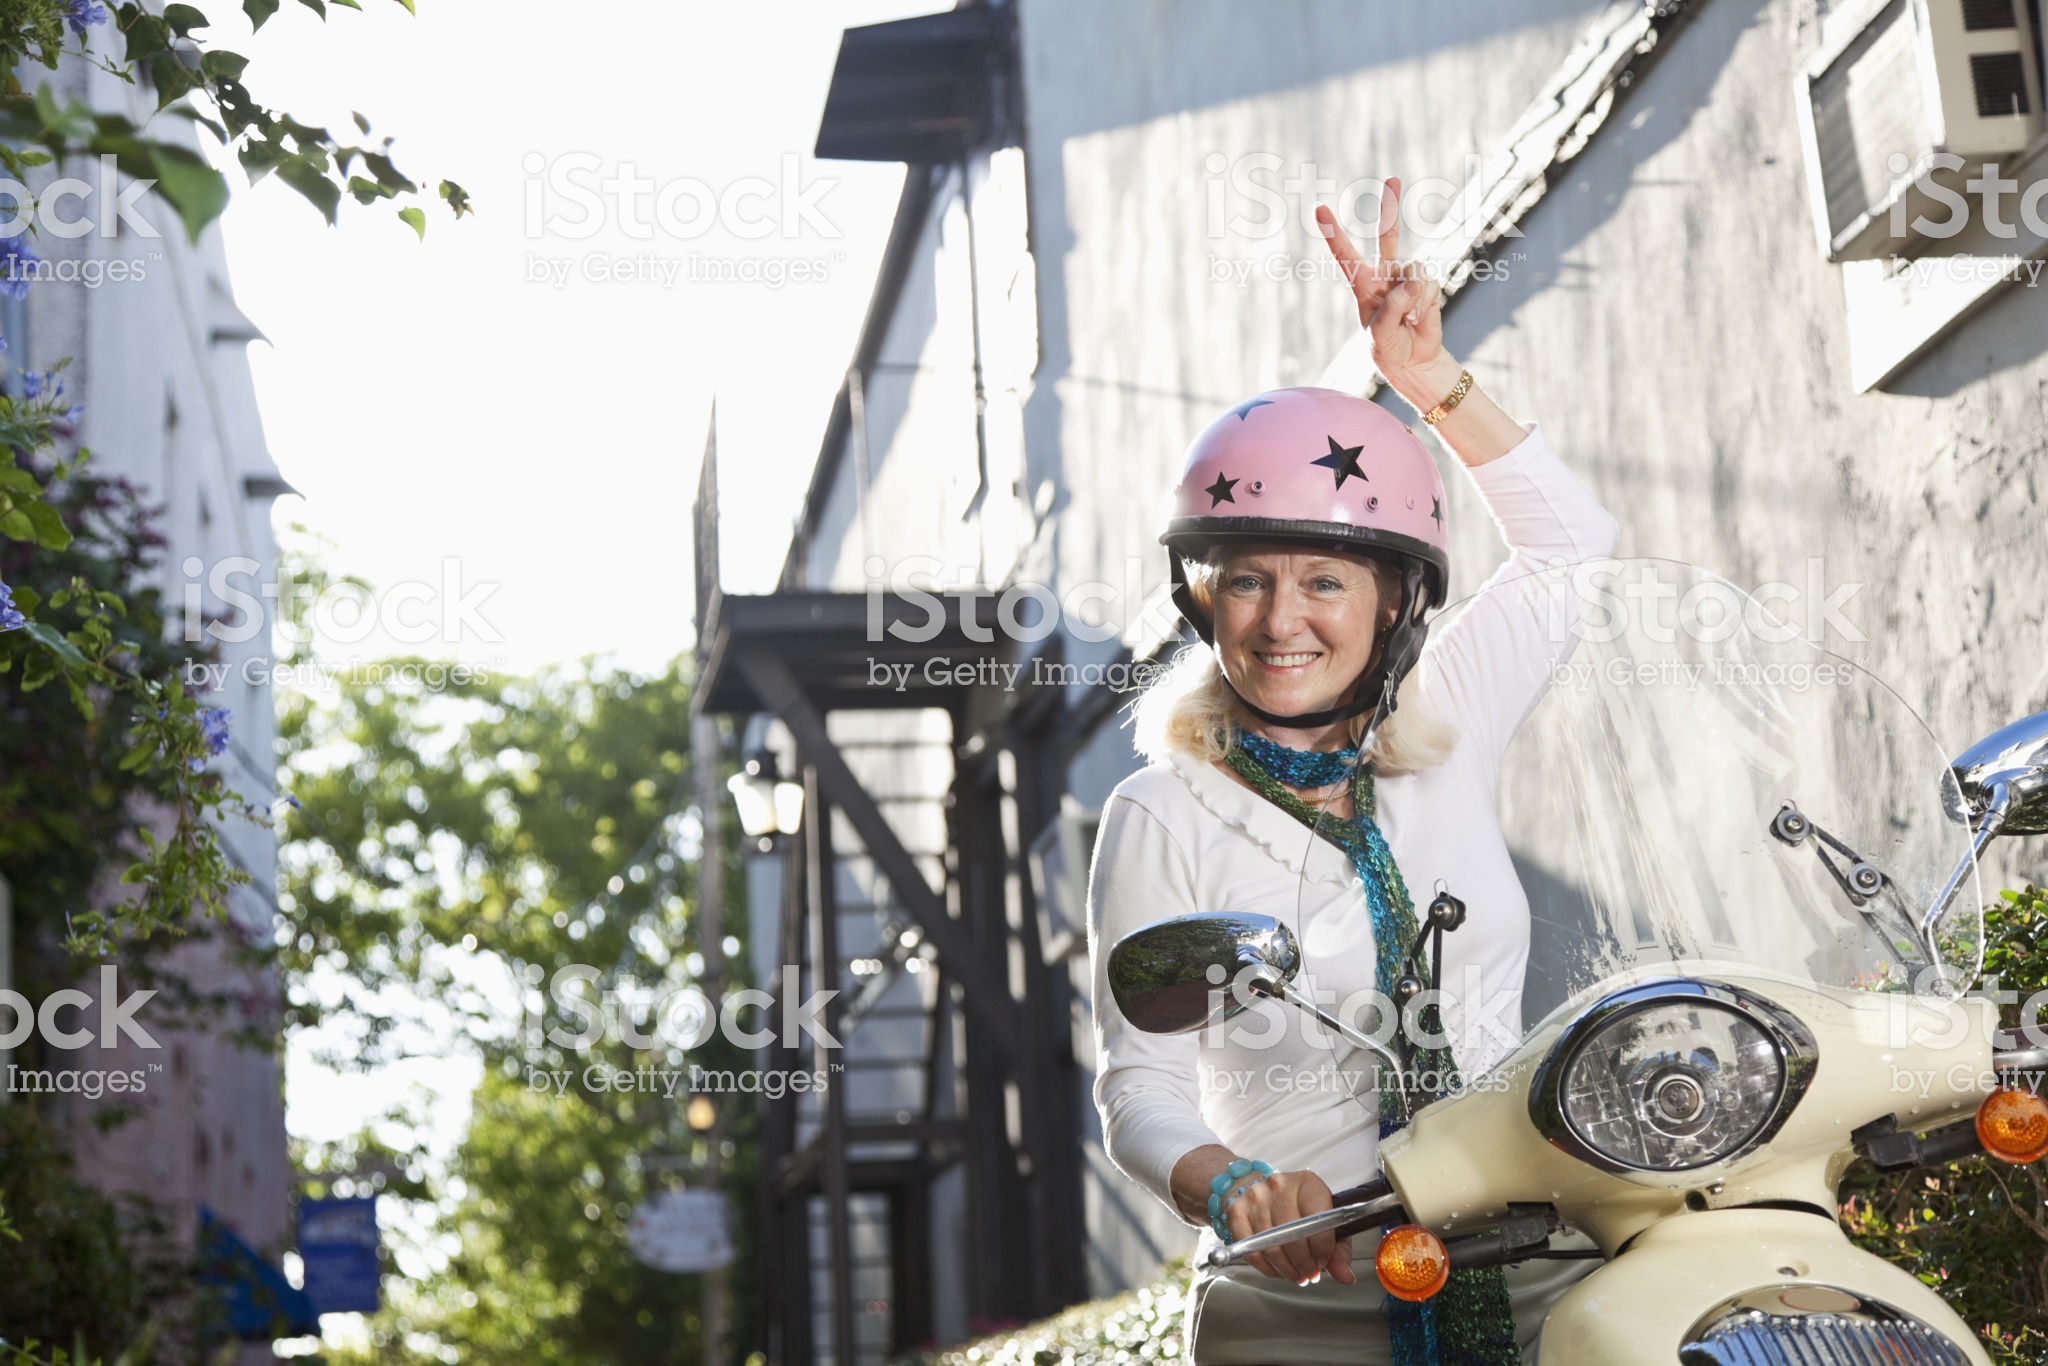helmet: (1157, 383, 1463, 581)
